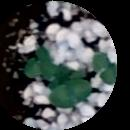Basil: (55, 78, 91, 104), (92, 51, 117, 83), (24, 59, 56, 79)
